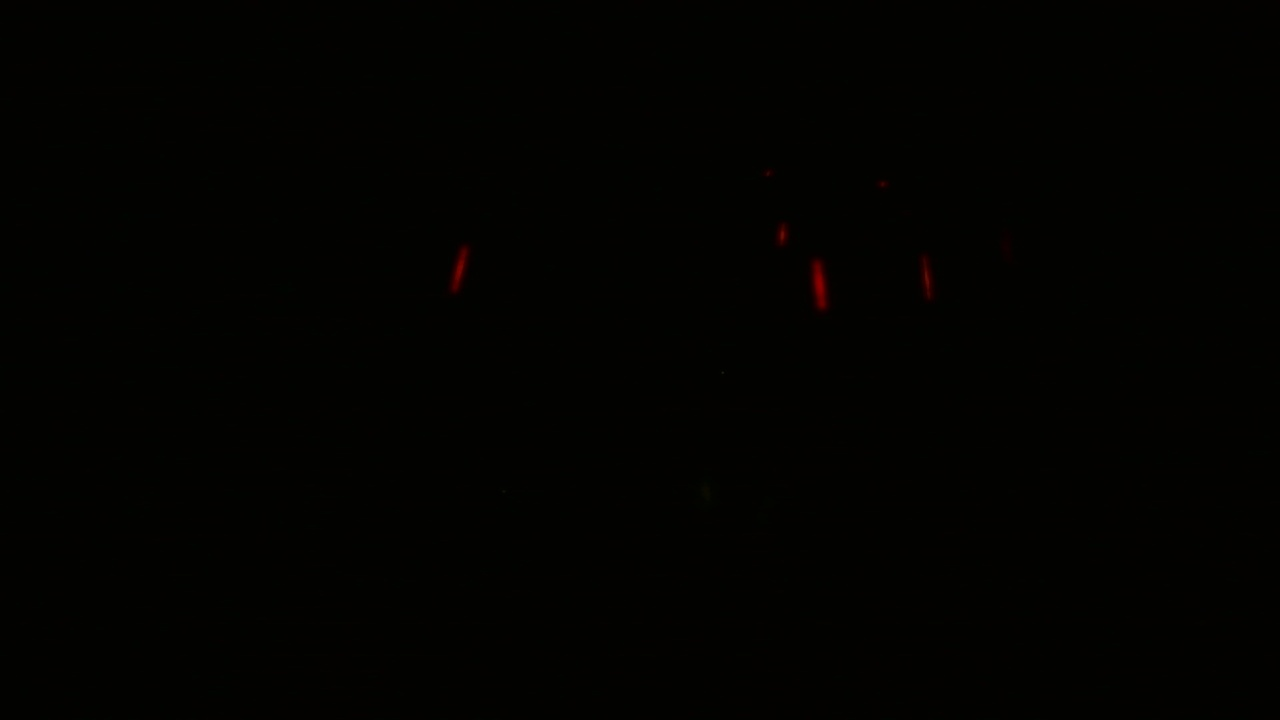pair1: (806, 253, 935, 307)
